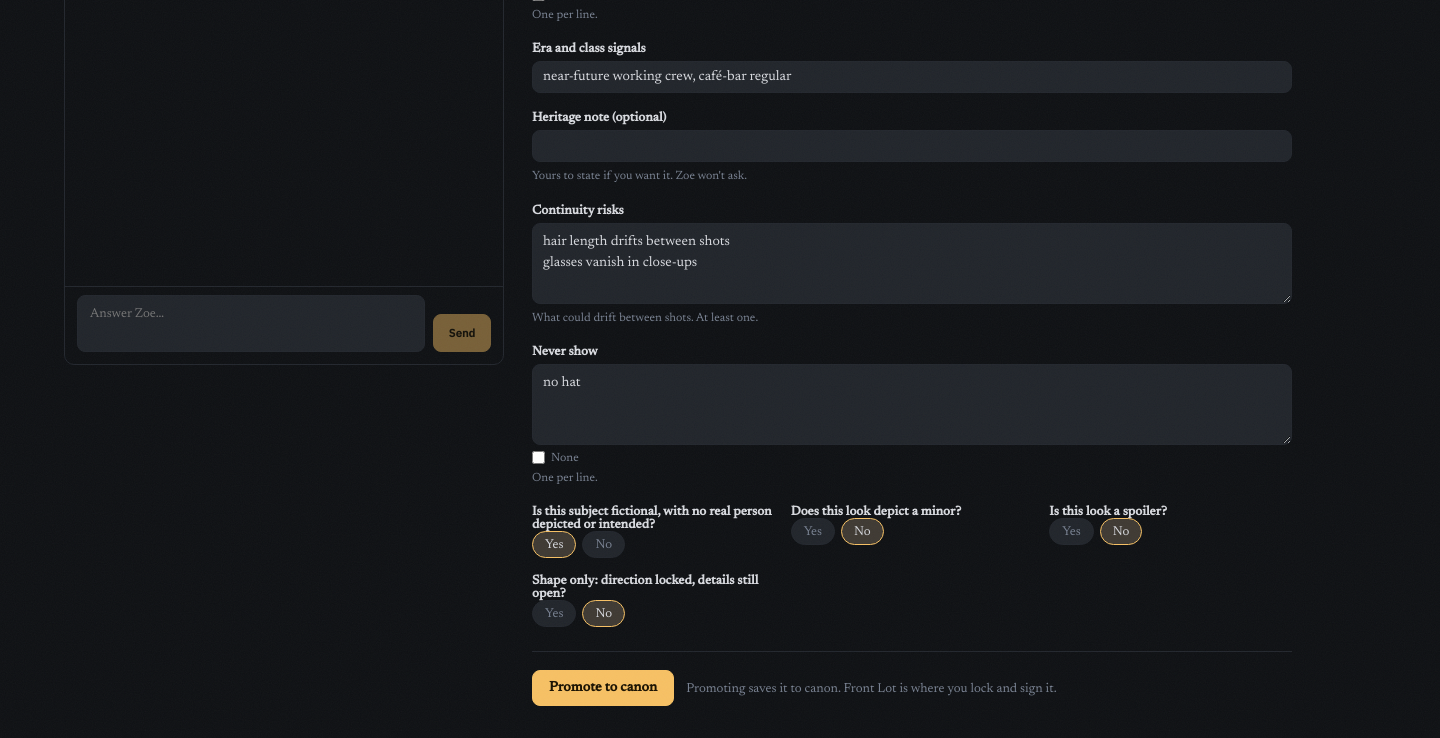
Test: Promote › is enabled for a complete look and sends writer provenance, reference and the memory revision
This screenshot has width=1440, height=738.
(page scrolled)
Step 1. Click the button "Promote to canon" → (603,688), box [532,670,674,706]
(page scrolled)
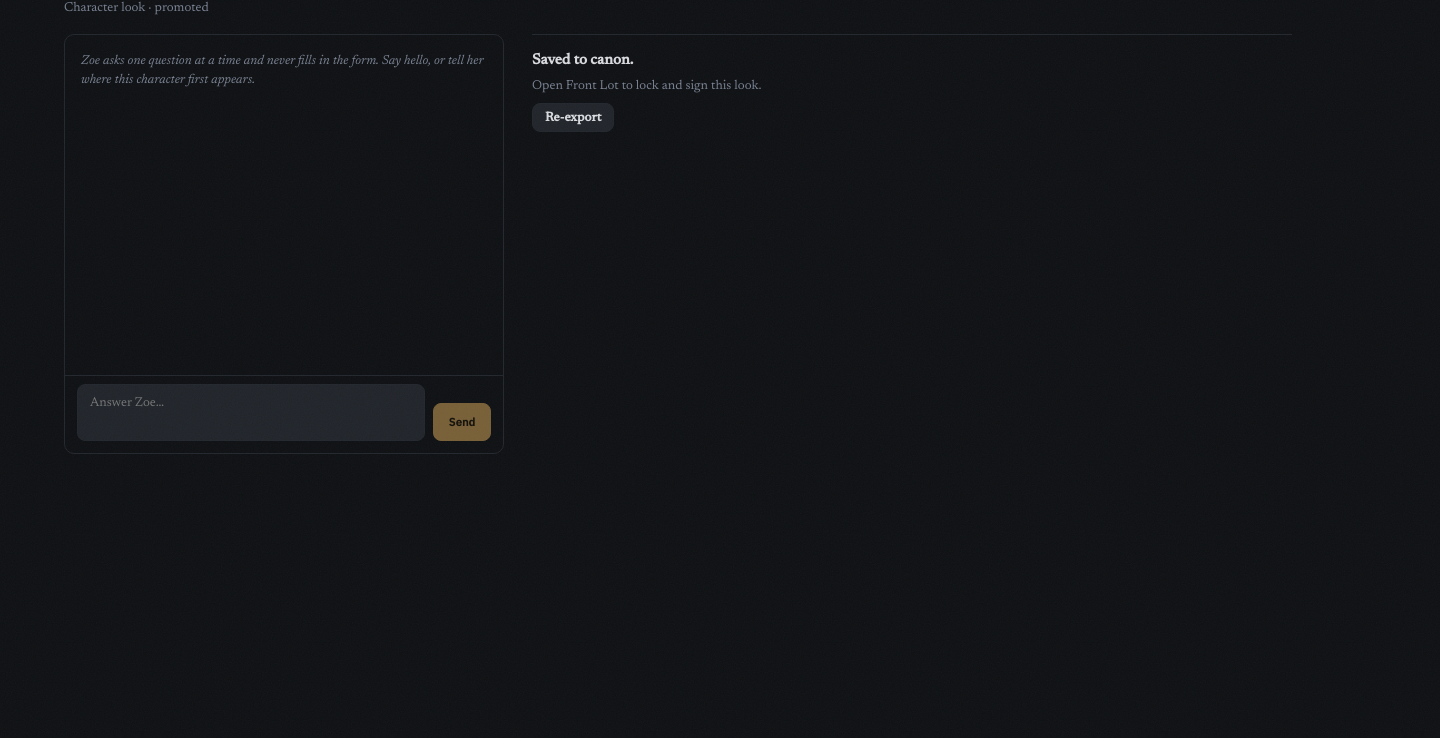
Check: the message shows "Saved to canon.", box [532,52,633,68]
Check: the text "Open Front Lot to lock and sign this look." is shown, box [532,78,762,92]
